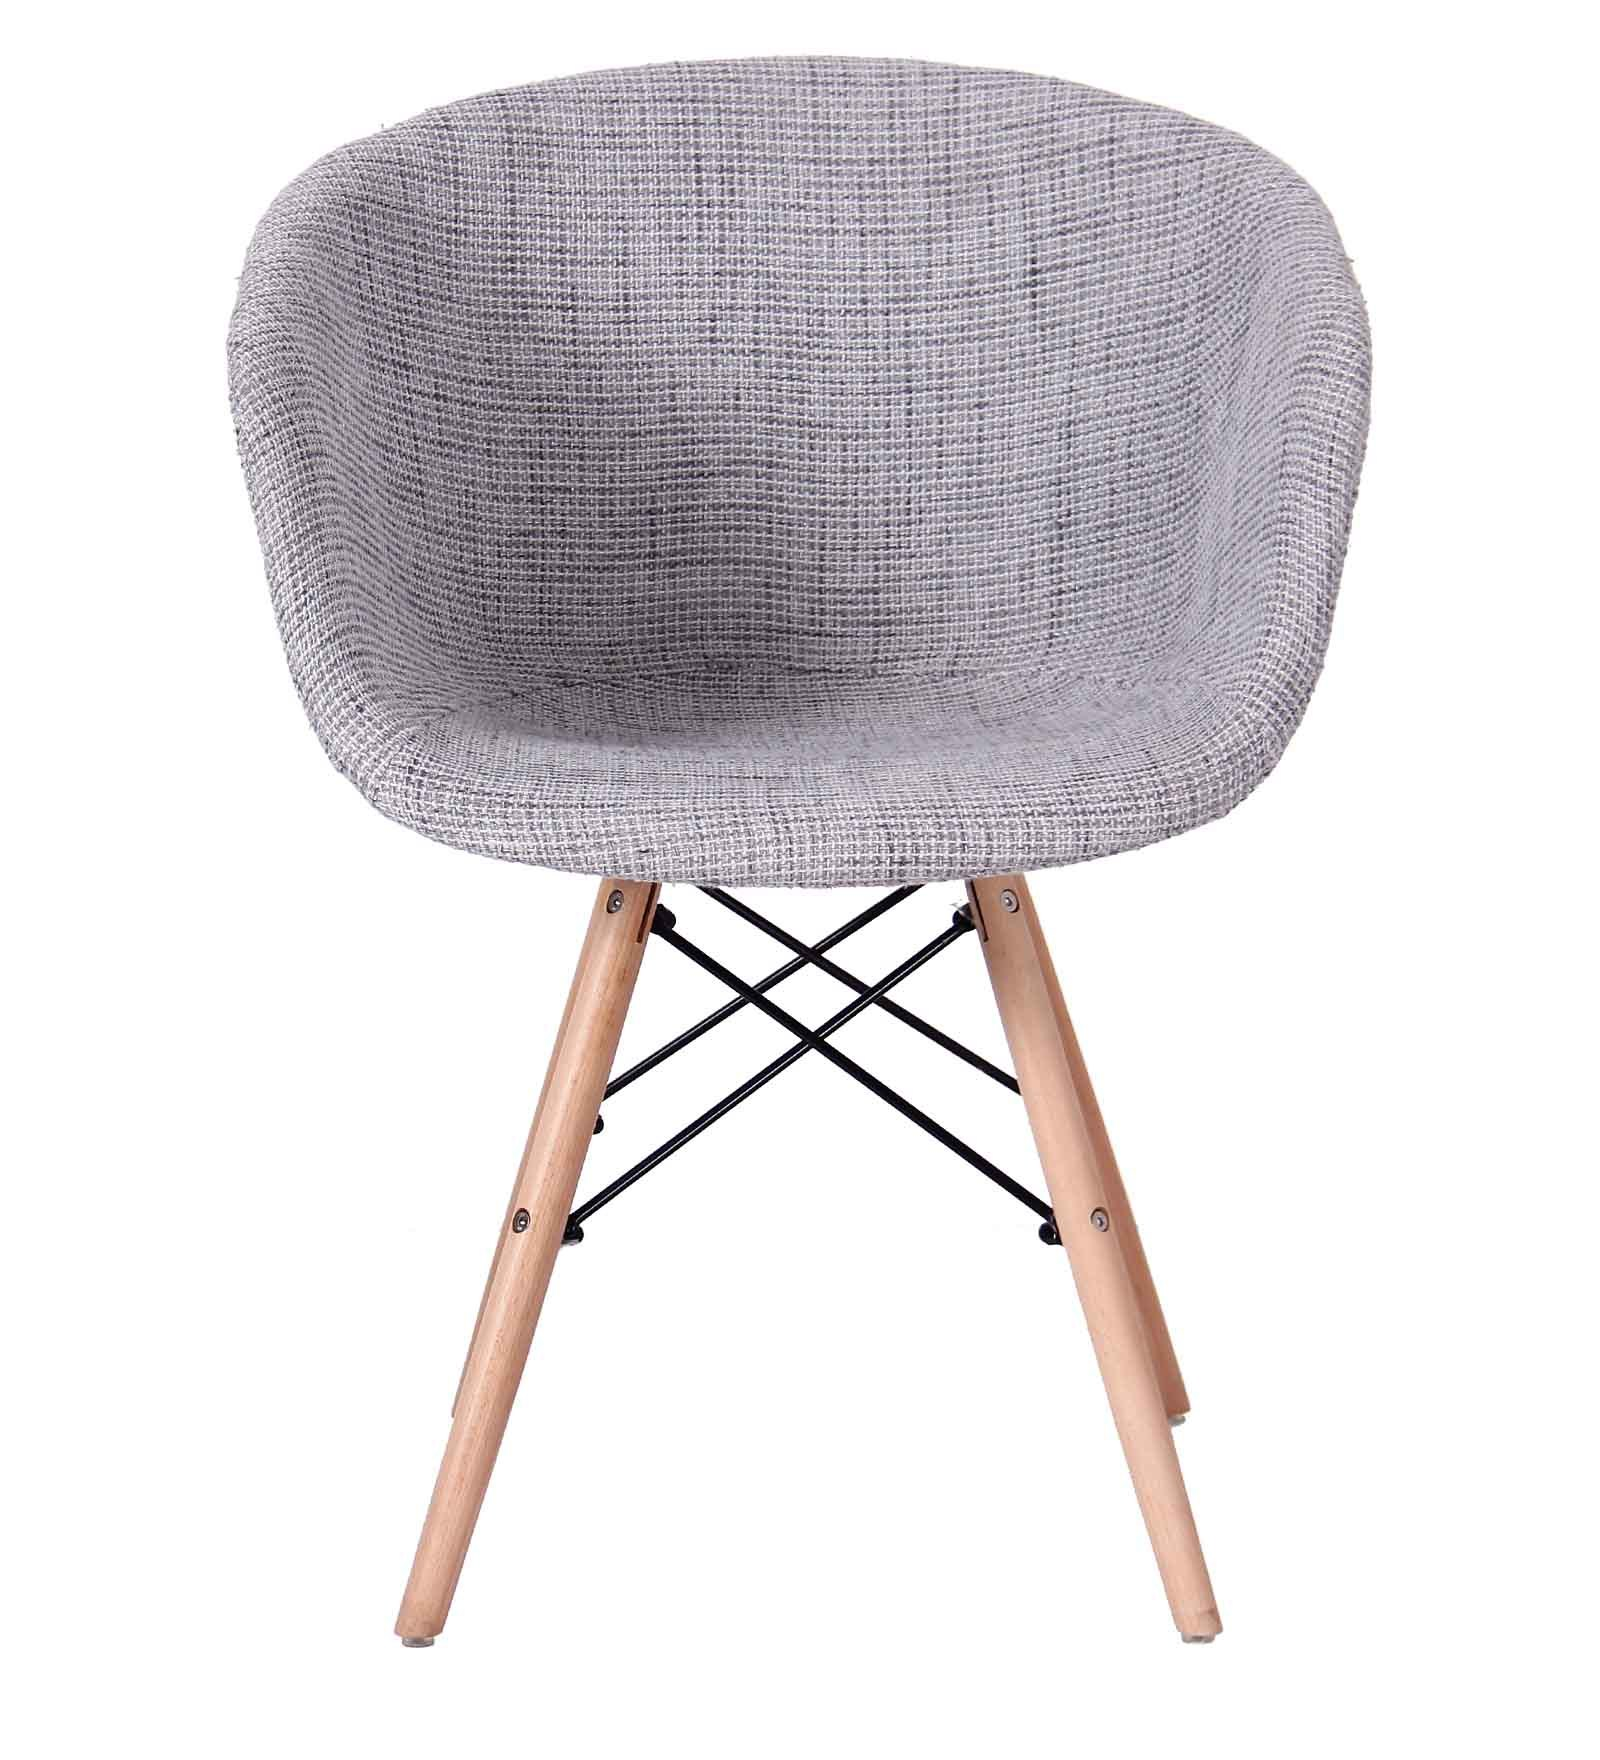Cory Fabric Chair in Light Grey Colour by Bohemiana: (146, 35, 1366, 1706)
